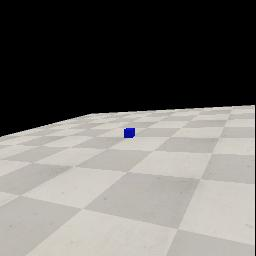box: (124, 128, 135, 138)
